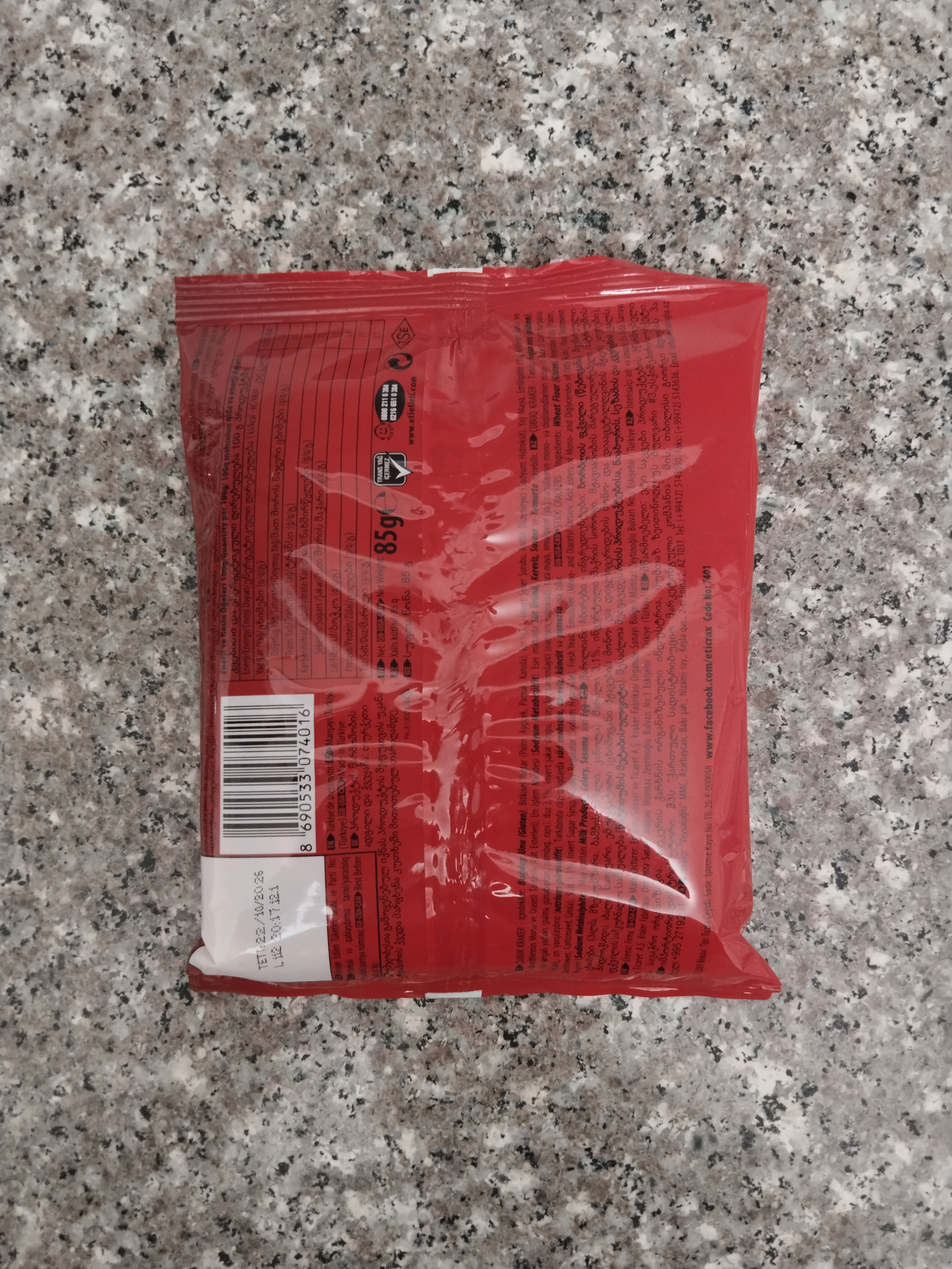eti_crax_cubuk_kraker: (176, 257, 776, 999)
